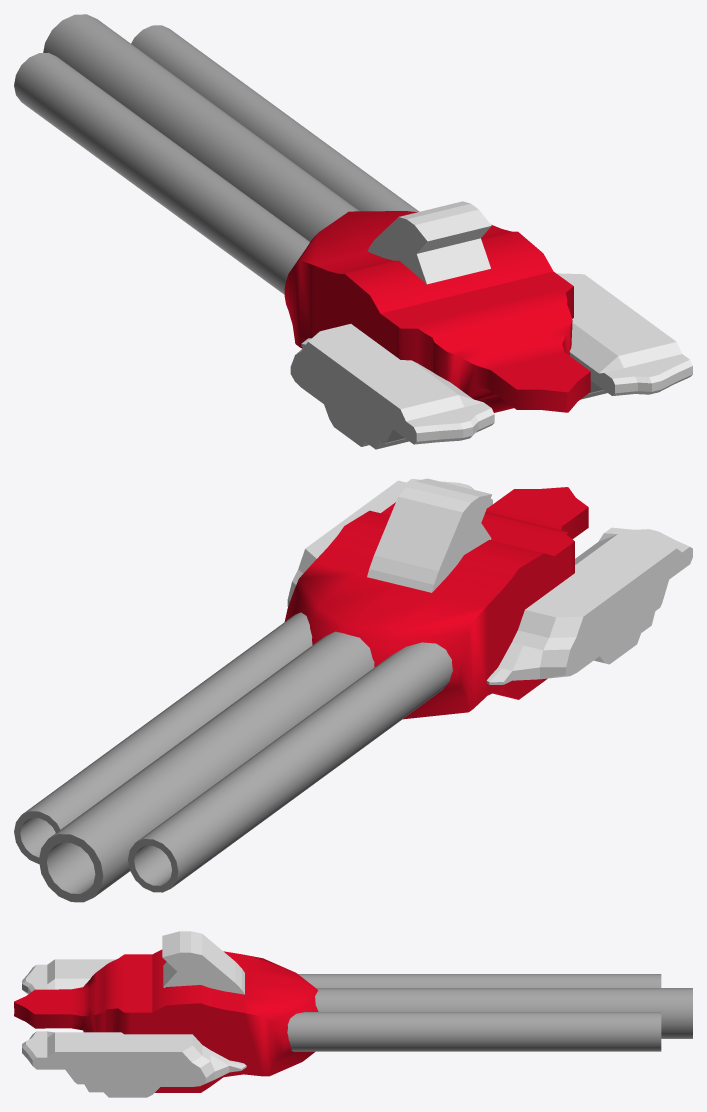
File: WeaponTest.fbx
The picture shows the model from 3 angles, top to bottom: view 1: azimuth 30°, elevation 25°; view 2: azimuth 150°, elevation 25°; view 3: azimuth 270°, elevation 25°; orthographic projection. The views are drawn at different scales.
Parts seen in each view (by area): view 1: Cube, Cylinder.002, Cylinder, Cube.003, Cylinder.001, Cube.001, Cube.002; view 2: Cube, Cylinder, Cylinder.002, Cube.003, Cylinder.001, Cube.002, Cube.001; view 3: Cube, Cylinder.001, Cube.001, Cylinder, Cylinder.002, Cube.002, Cube.003.
Boxes of the visible parts, left/top/right/bottom form: Cube: left=284, top=211, right=590, bottom=412; Cylinder.002: left=14, top=52, right=309, bottom=294; Cylinder: left=43, top=14, right=359, bottom=241; Cube.003: left=290, top=324, right=494, bottom=449; Cylinder.001: left=131, top=25, right=419, bottom=212; Cube.001: left=557, top=273, right=692, bottom=399; Cube.002: left=367, top=201, right=491, bottom=284; Cube: left=284, top=487, right=588, bottom=719; Cylinder: left=39, top=631, right=374, bottom=902; Cylinder.002: left=128, top=642, right=452, bottom=892; Cube.003: left=486, top=527, right=692, bottom=684; Cylinder.001: left=14, top=612, right=312, bottom=864; Cube.002: left=367, top=478, right=491, bottom=592; Cube.001: left=287, top=479, right=492, bottom=606; Cube: left=14, top=949, right=318, bottom=1092; Cylinder.001: left=287, top=1012, right=661, bottom=1051; Cube.001: left=22, top=1031, right=246, bottom=1097; Cylinder: left=315, top=988, right=692, bottom=1038; Cylinder.002: left=298, top=974, right=661, bottom=987; Cube.002: left=162, top=931, right=244, bottom=994; Cube.003: left=22, top=959, right=115, bottom=994.
Size of the model in its own units: 216 by 132 by 667.
